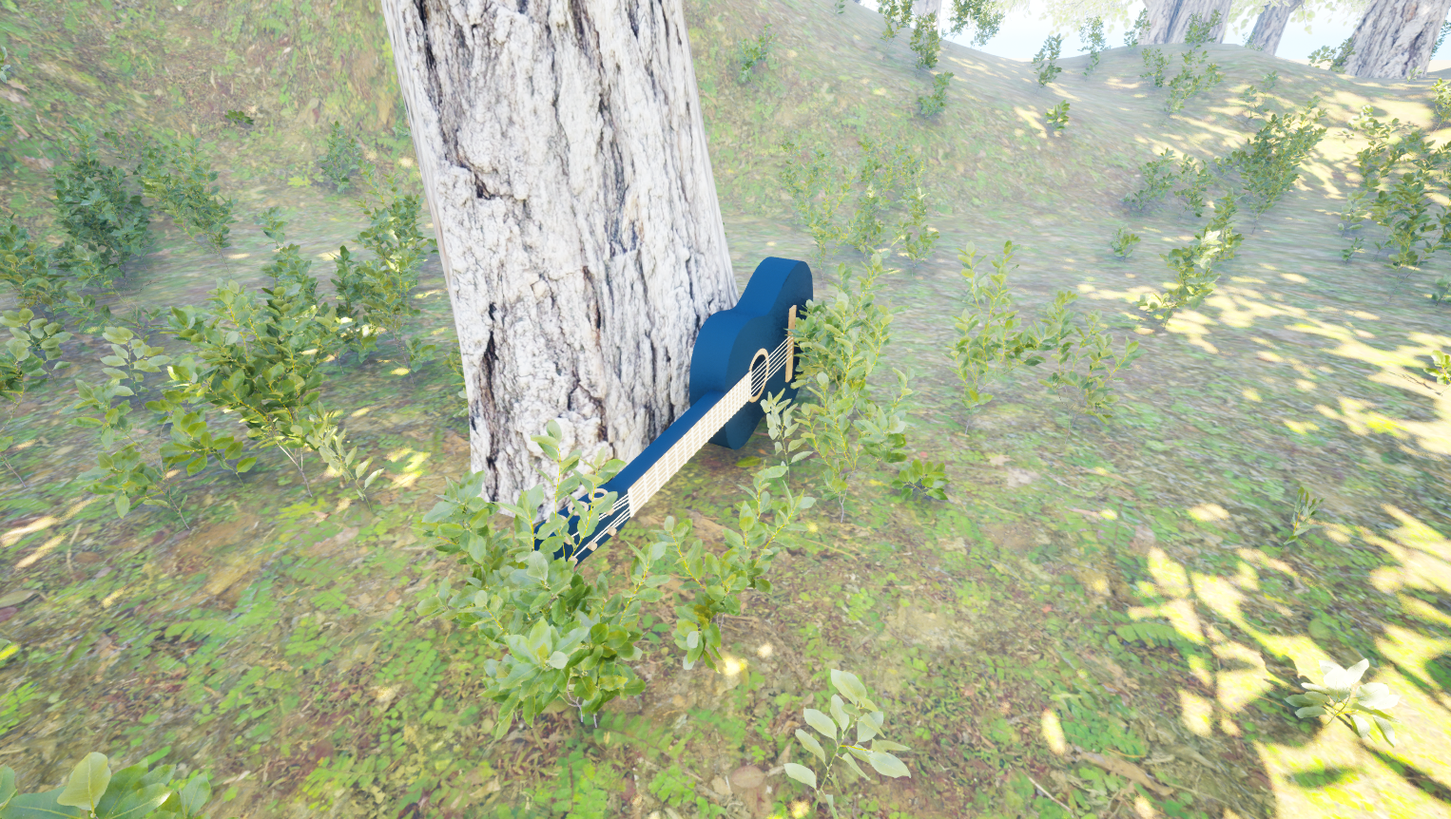Guitar: (484, 244, 821, 671)
